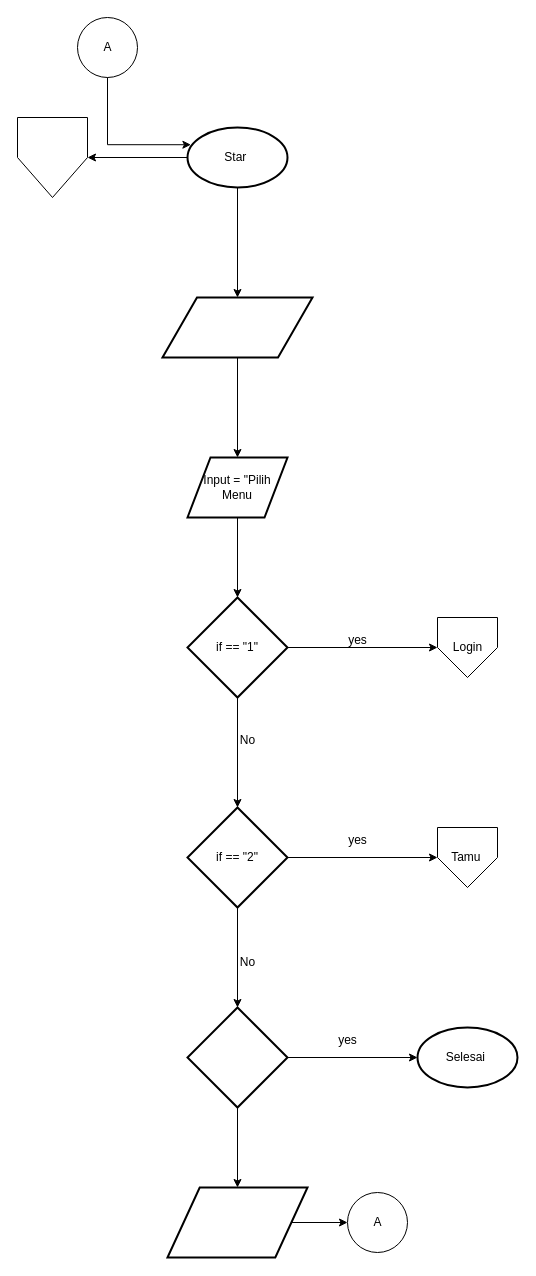
Image size: 536x1276. Some labels were removed from this diagram. Each missing label, with the centre of its shape:
if =="3": pixel 237 1057
menu mulai: pixel 52 157
Output = "1. login 2. tamu 3. keluar": pixel 237 327
output = Pilihan tidak valid: pixel 237 1222
